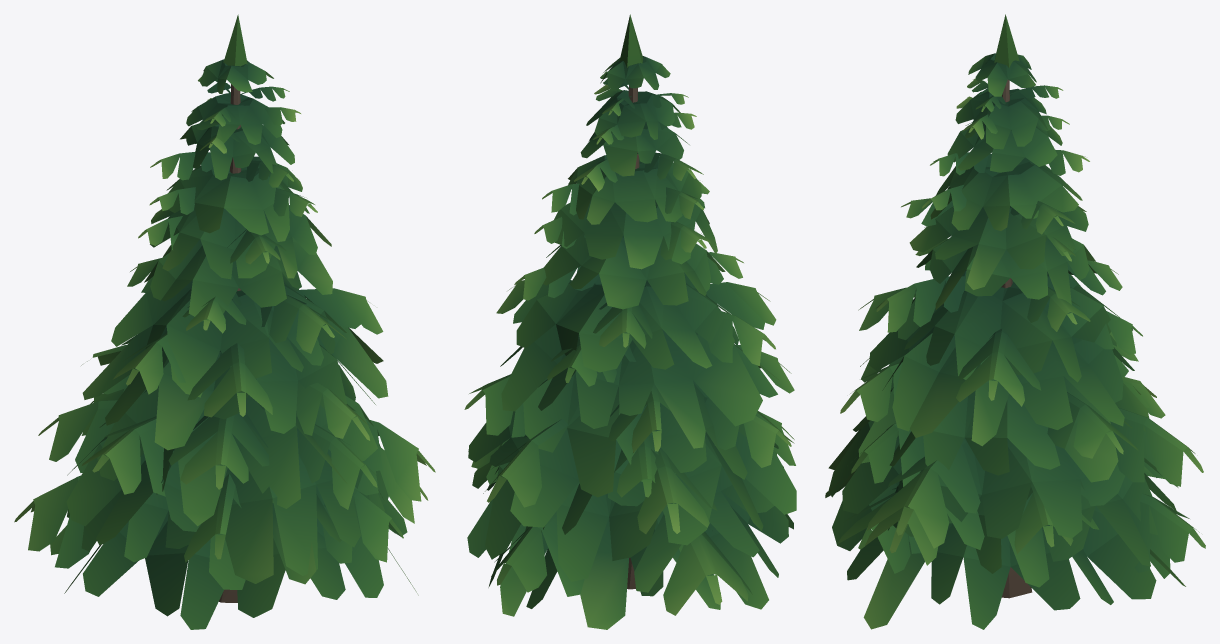
The model's file is spruce_S_wide_std_dense_s39.glb.
3 views of the same model, side by side, from view 1: azimuth 30°, elevation 25°; view 2: azimuth 150°, elevation 25°; view 3: azimuth 270°, elevation 25° (orthographic). The views are drawn at different scales.
Visible parts, largest first — view 1: Tree; view 2: Tree; view 3: Tree.
Boxes of the visible parts, <box> form: Tree: <box>14,14,435,629</box>; Tree: <box>464,14,796,629</box>; Tree: <box>825,14,1205,629</box>.
Size of what is drawn, in the model's own units: 2.29 by 3.98 by 2.39.
